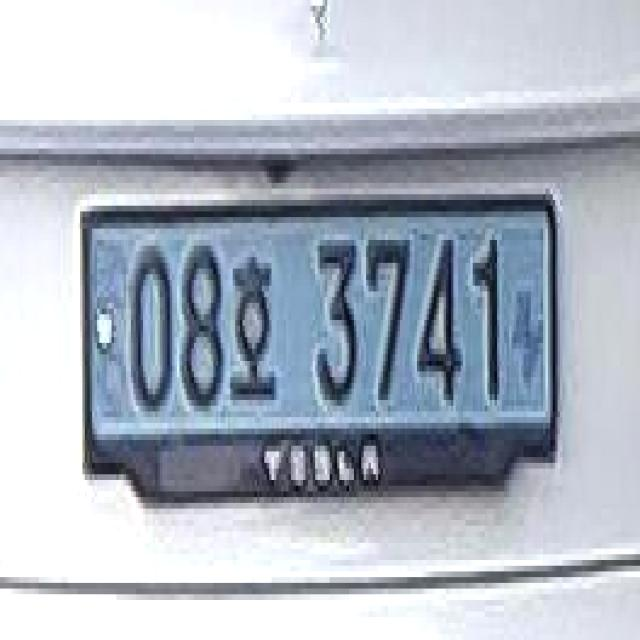EV_plate: (77, 179, 564, 525)
